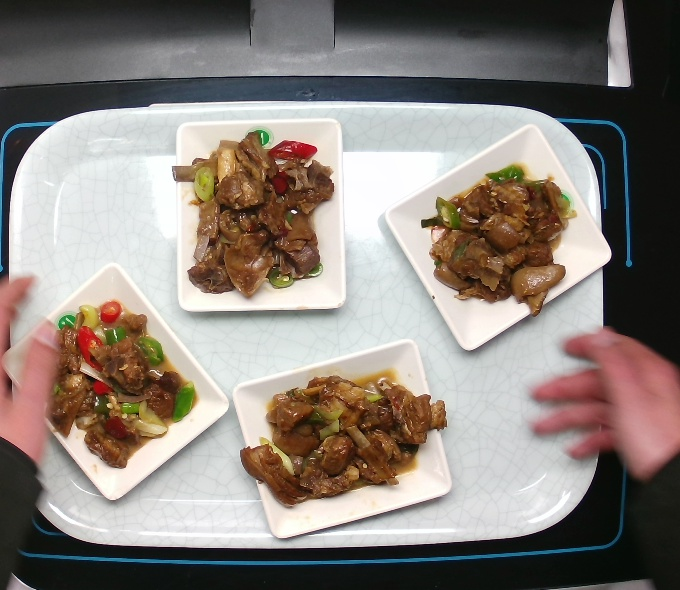wcq-YangRou: (234, 367, 453, 512), (166, 128, 340, 303), (36, 297, 204, 473), (416, 158, 584, 321)
